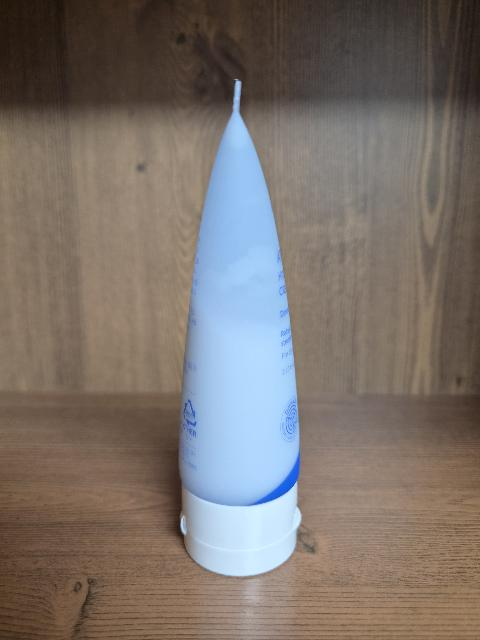handcream: (179, 79, 301, 576)
